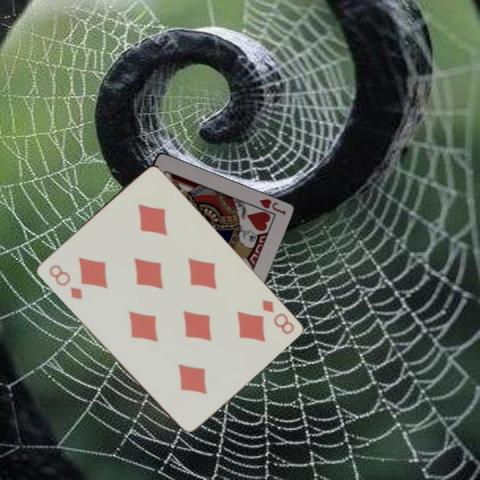8d: (45, 262, 84, 301), (258, 296, 295, 336)
Jh: (256, 196, 287, 217)
